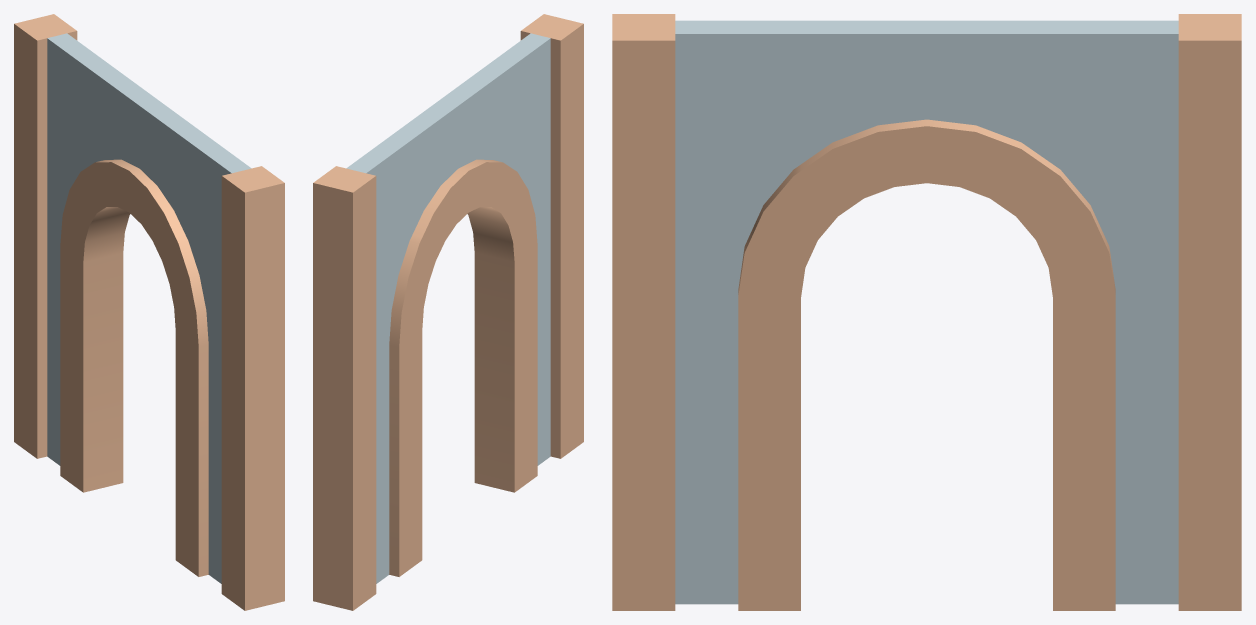
The model's file is wallDoor.glb.
3 renders of one model, left to right at view 1: azimuth 30°, elevation 25°; view 2: azimuth 150°, elevation 25°; view 3: azimuth 270°, elevation 25°, orthographic. The views are drawn at different scales.
Visible parts, largest first — view 1: wallDoor; view 2: wallDoor; view 3: wallDoor.
Boxes of the visible parts, x1,y1,x2,y2 form: wallDoor: (14,14,284,610); wallDoor: (313,14,583,610); wallDoor: (612,14,1241,610).
Bounding box in the file's own units: 0.1 × 1 × 1.
